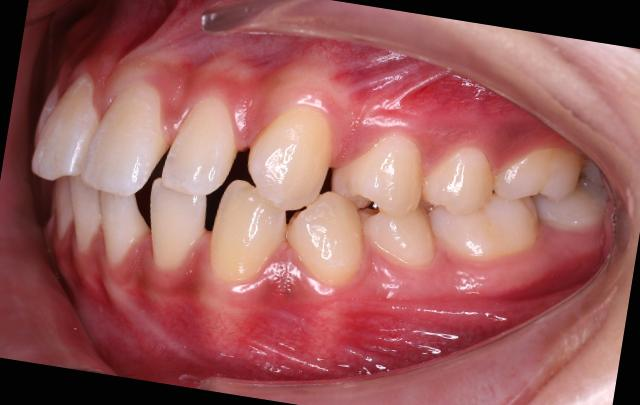canine class II 1/4: (199, 80, 388, 312)
molar class III 1/2: (421, 122, 604, 278)
